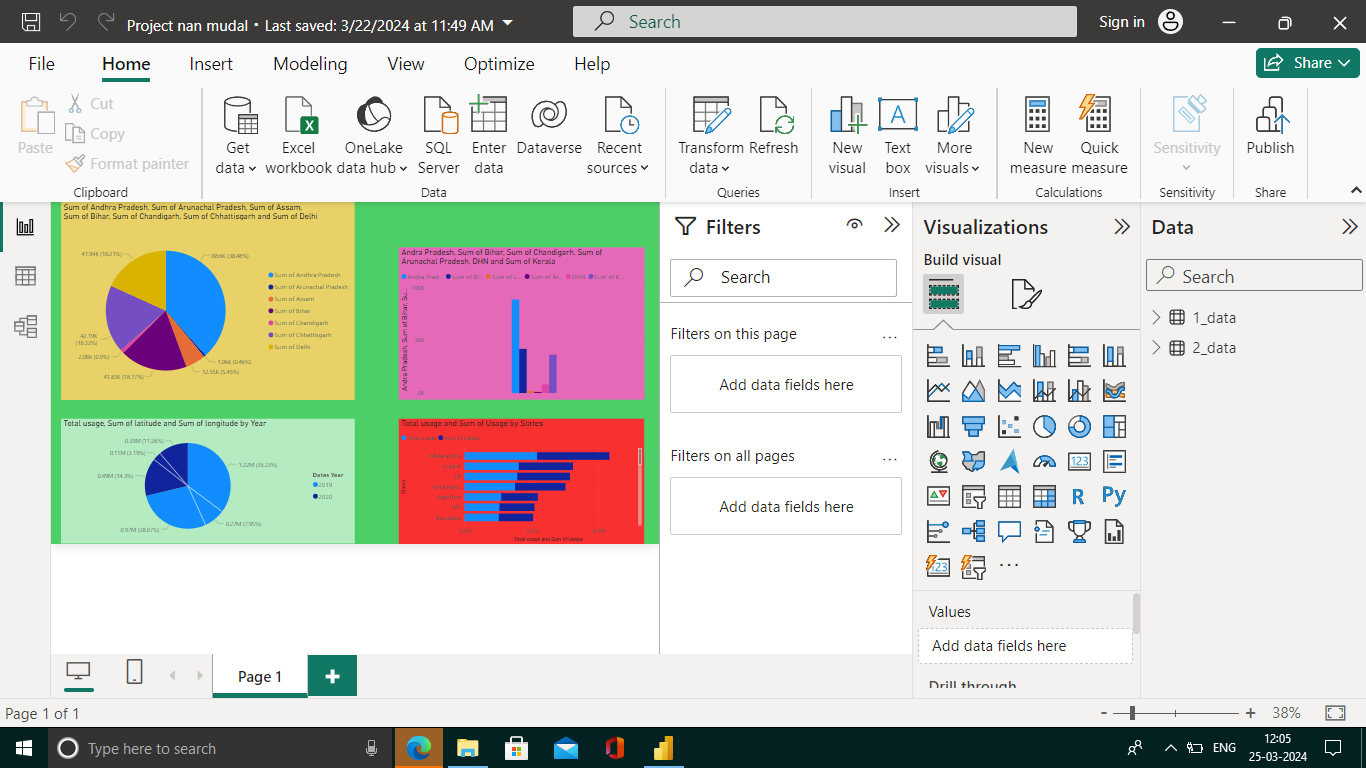

The page's visual inventory and layout, read from the dashboard file:
{"tool":"powerbi","page":{"name":"Page 1","canvas":[1280,720],"ordinal":0},"visuals":[{"type":"pieChart","fields":{"Y":["1_data.Andhra Pradesh","1_data.Arunachal Pradesh","1_data.Assam","1_data.Bihar","1_data.Chandigarh","1_data.Chhattisgarh","1_data.Delhi"]},"box":[21.2,0,618.1,416.5],"z":0},{"type":"clusteredColumnChart","fields":{"Y":["1_data.Andra Pradesh","1_data.Bihar","1_data.Chandigarh","1_data.Arunachal Pradesh","1_data.DHN","1_data.Kerala"]},"box":[732.1,95.5,517.3,321],"z":1000},{"type":"pieChart","fields":{"Y":["1_data.Total usage","2_data.latitude","2_data.longitude"],"Category":["2_data.Dates.Variation.Date Hierarchy.Year","2_data.Dates.Variation.Date Hierarchy.Quarter","2_data.Dates.Variation.Date Hierarchy.Month","2_data.Dates.Variation.Date Hierarchy.Day","2_data.Regions"]},"box":[21.2,456.2,618.1,262.6],"z":2000},{"type":"barChart","fields":{"Y":["1_data.Total usage","2_data.Usage"],"Category":["2_data.States"]},"box":[732,456,517,264],"z":3000}]}

Visuals, with their boxes on the page's 1280x720 design canvas (x1, y1, x2, y2). These are canvas units, not pixel positions in the 1366x768 screenshot, which may show the page scaled, cropped or inside an application window:
pieChart - 1_data.Andhra Pradesh x 1_data.Arunachal Pradesh: pyautogui.locateOnScreen(21, 0, 639, 416)
clusteredColumnChart - 1_data.Andra Pradesh x 1_data.Bihar: pyautogui.locateOnScreen(732, 96, 1249, 416)
pieChart - 1_data.Total usage x 2_data.latitude: pyautogui.locateOnScreen(21, 456, 639, 719)
barChart - 1_data.Total usage x 2_data.Usage: pyautogui.locateOnScreen(732, 456, 1249, 720)
